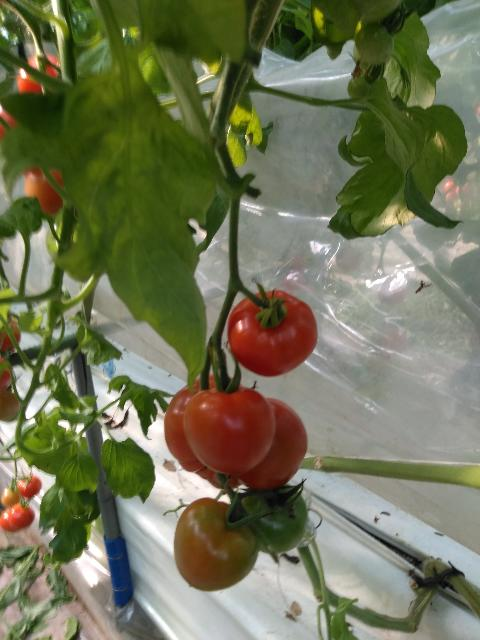l_fully_ripened: (164, 374, 242, 491), (183, 386, 277, 475), (227, 289, 318, 378), (236, 397, 308, 490), (9, 503, 35, 529), (16, 476, 43, 499), (0, 507, 22, 534)
l_green: (236, 483, 309, 554), (354, 23, 394, 66), (348, 75, 376, 102)
l_half_ripened: (173, 497, 259, 592), (1, 487, 21, 507)
